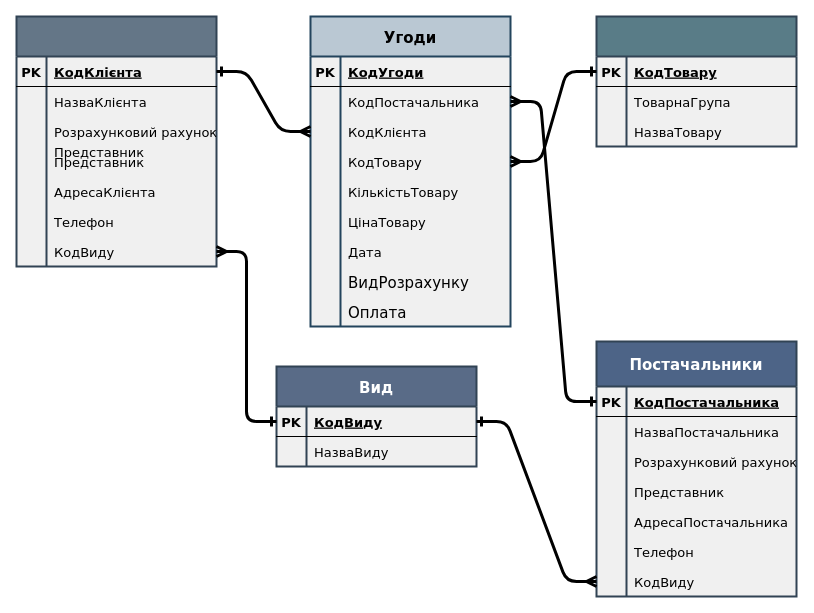
Some shapes in this 814 by 613 pixel diagram are drawn without their labels. The shapes that lost their labels are listed below. From the top down, each one's box as (x1, y1, x2, y2) in pixels, then its label:
(595, 15, 797, 147): Товари
(15, 15, 217, 267): Клієнти
